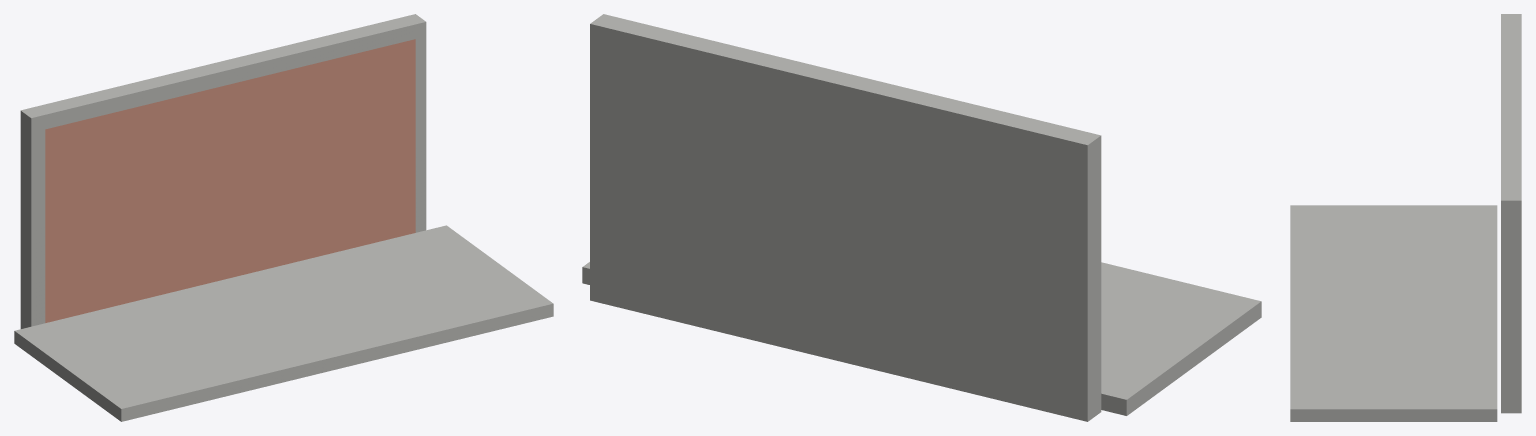
The model's file is source.gltf.
3 renders of one model, left to right at view 1: azimuth 30°, elevation 25°; view 2: azimuth 150°, elevation 25°; view 3: azimuth 270°, elevation 25°, orthographic. The views are drawn at different scales.
Parts seen in each view (by area): view 1: scene; view 2: scene; view 3: scene.
Part boxes in pixels (left/top/right/bottom): scene: left=14, top=14, right=553, bottom=421; scene: left=582, top=14, right=1261, bottom=421; scene: left=1290, top=14, right=1521, bottom=421.
Bounding box in the file's own units: 7 × 3.4 × 3.35.
